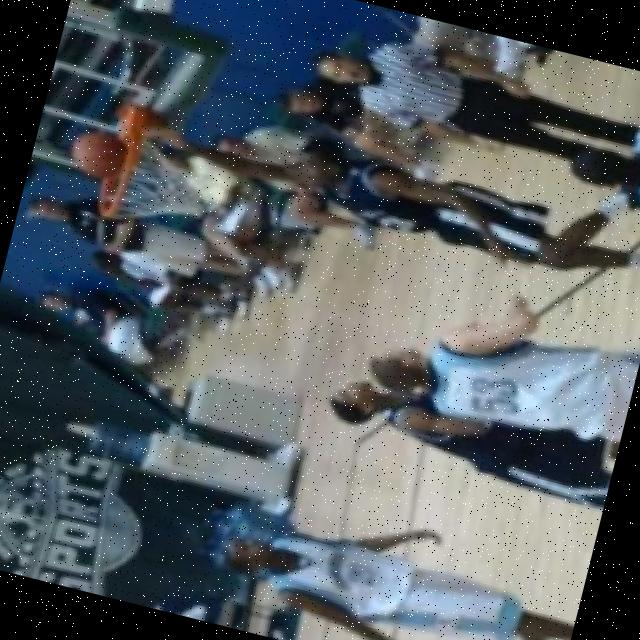ball: (64, 121, 132, 185)
